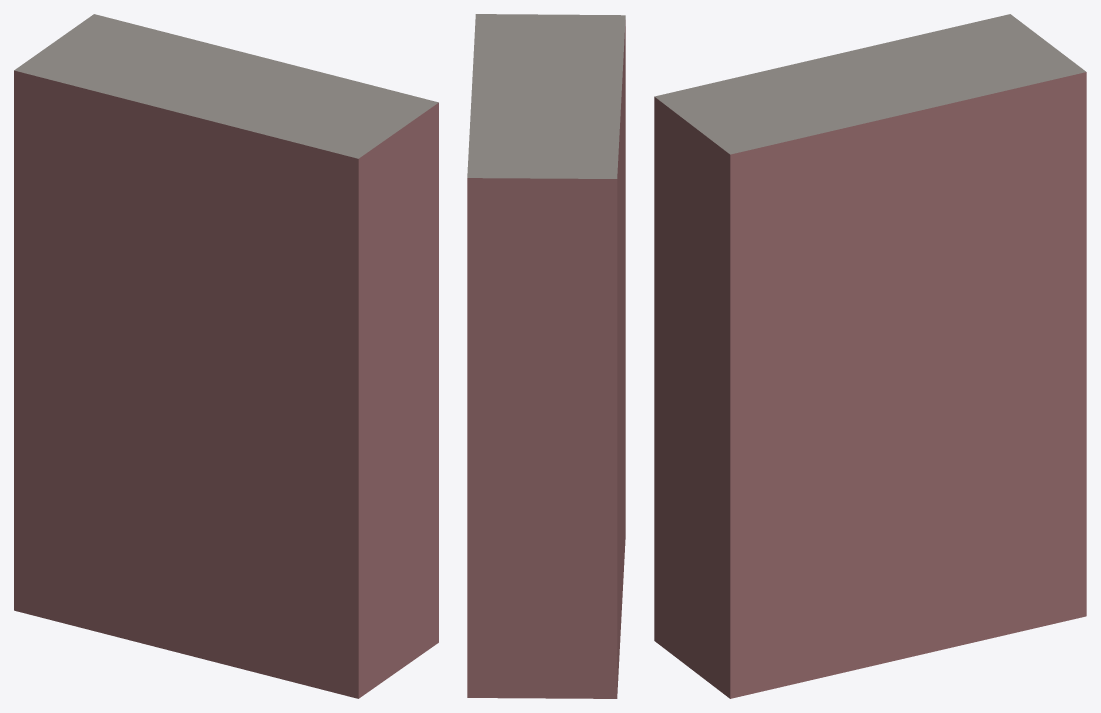
The model's file is nyc-1034197-0.glb.
3 views of the same model, side by side, from view 1: azimuth 30°, elevation 25°; view 2: azimuth 150°, elevation 25°; view 3: azimuth 270°, elevation 25° (orthographic). The views are drawn at different scales.
Parts seen in each view (by area): view 1: nyc-1034197-0; view 2: nyc-1034197-0; view 3: nyc-1034197-0.
Boxes of the visible parts, x1,y1,x2,y2 form: nyc-1034197-0: (14,14,438,698); nyc-1034197-0: (467,14,625,698); nyc-1034197-0: (654,14,1086,698).
Bounding box in the file's own units: 49.31 × 89 × 64.07.
